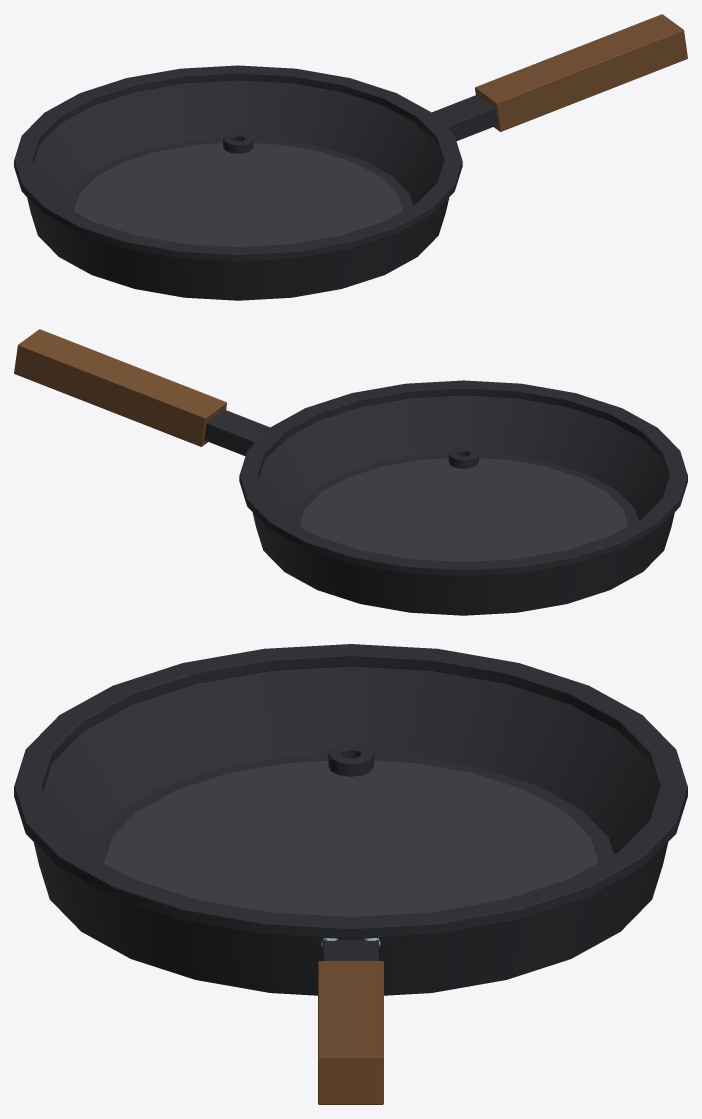
Rendered from FryingPan.glb.
3 views of the same model, one above another, from view 1: azimuth 30°, elevation 25°; view 2: azimuth 150°, elevation 25°; view 3: azimuth 270°, elevation 25° (orthographic). The views are drawn at different scales.
Visible parts, largest first — view 1: FryingPan; view 2: FryingPan; view 3: FryingPan.
Boxes of the visible parts, left/top/right/bottom form: FryingPan: left=14, top=14, right=687, bottom=300; FryingPan: left=14, top=329, right=687, bottom=615; FryingPan: left=14, top=644, right=687, bottom=1104.
Size of the model in its own units: 0.4337 by 0.0629 by 0.266.
